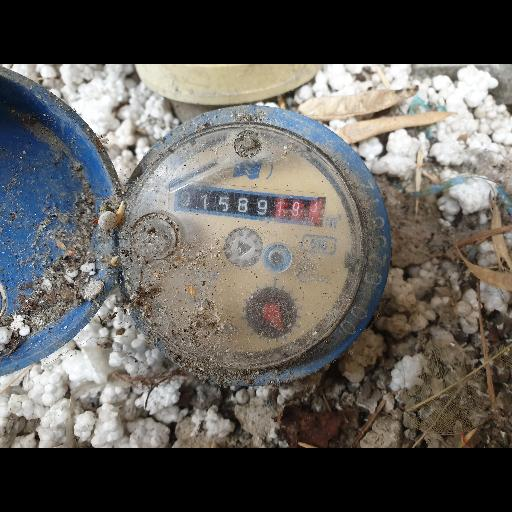0: (178, 187, 195, 209)
1: (197, 189, 213, 211), (275, 197, 290, 220)
3: (308, 195, 326, 227)
5: (215, 191, 233, 214)
8: (234, 192, 253, 216)
9: (255, 195, 272, 218), (289, 199, 305, 222)
border_water_meter_number: (167, 178, 327, 228)
